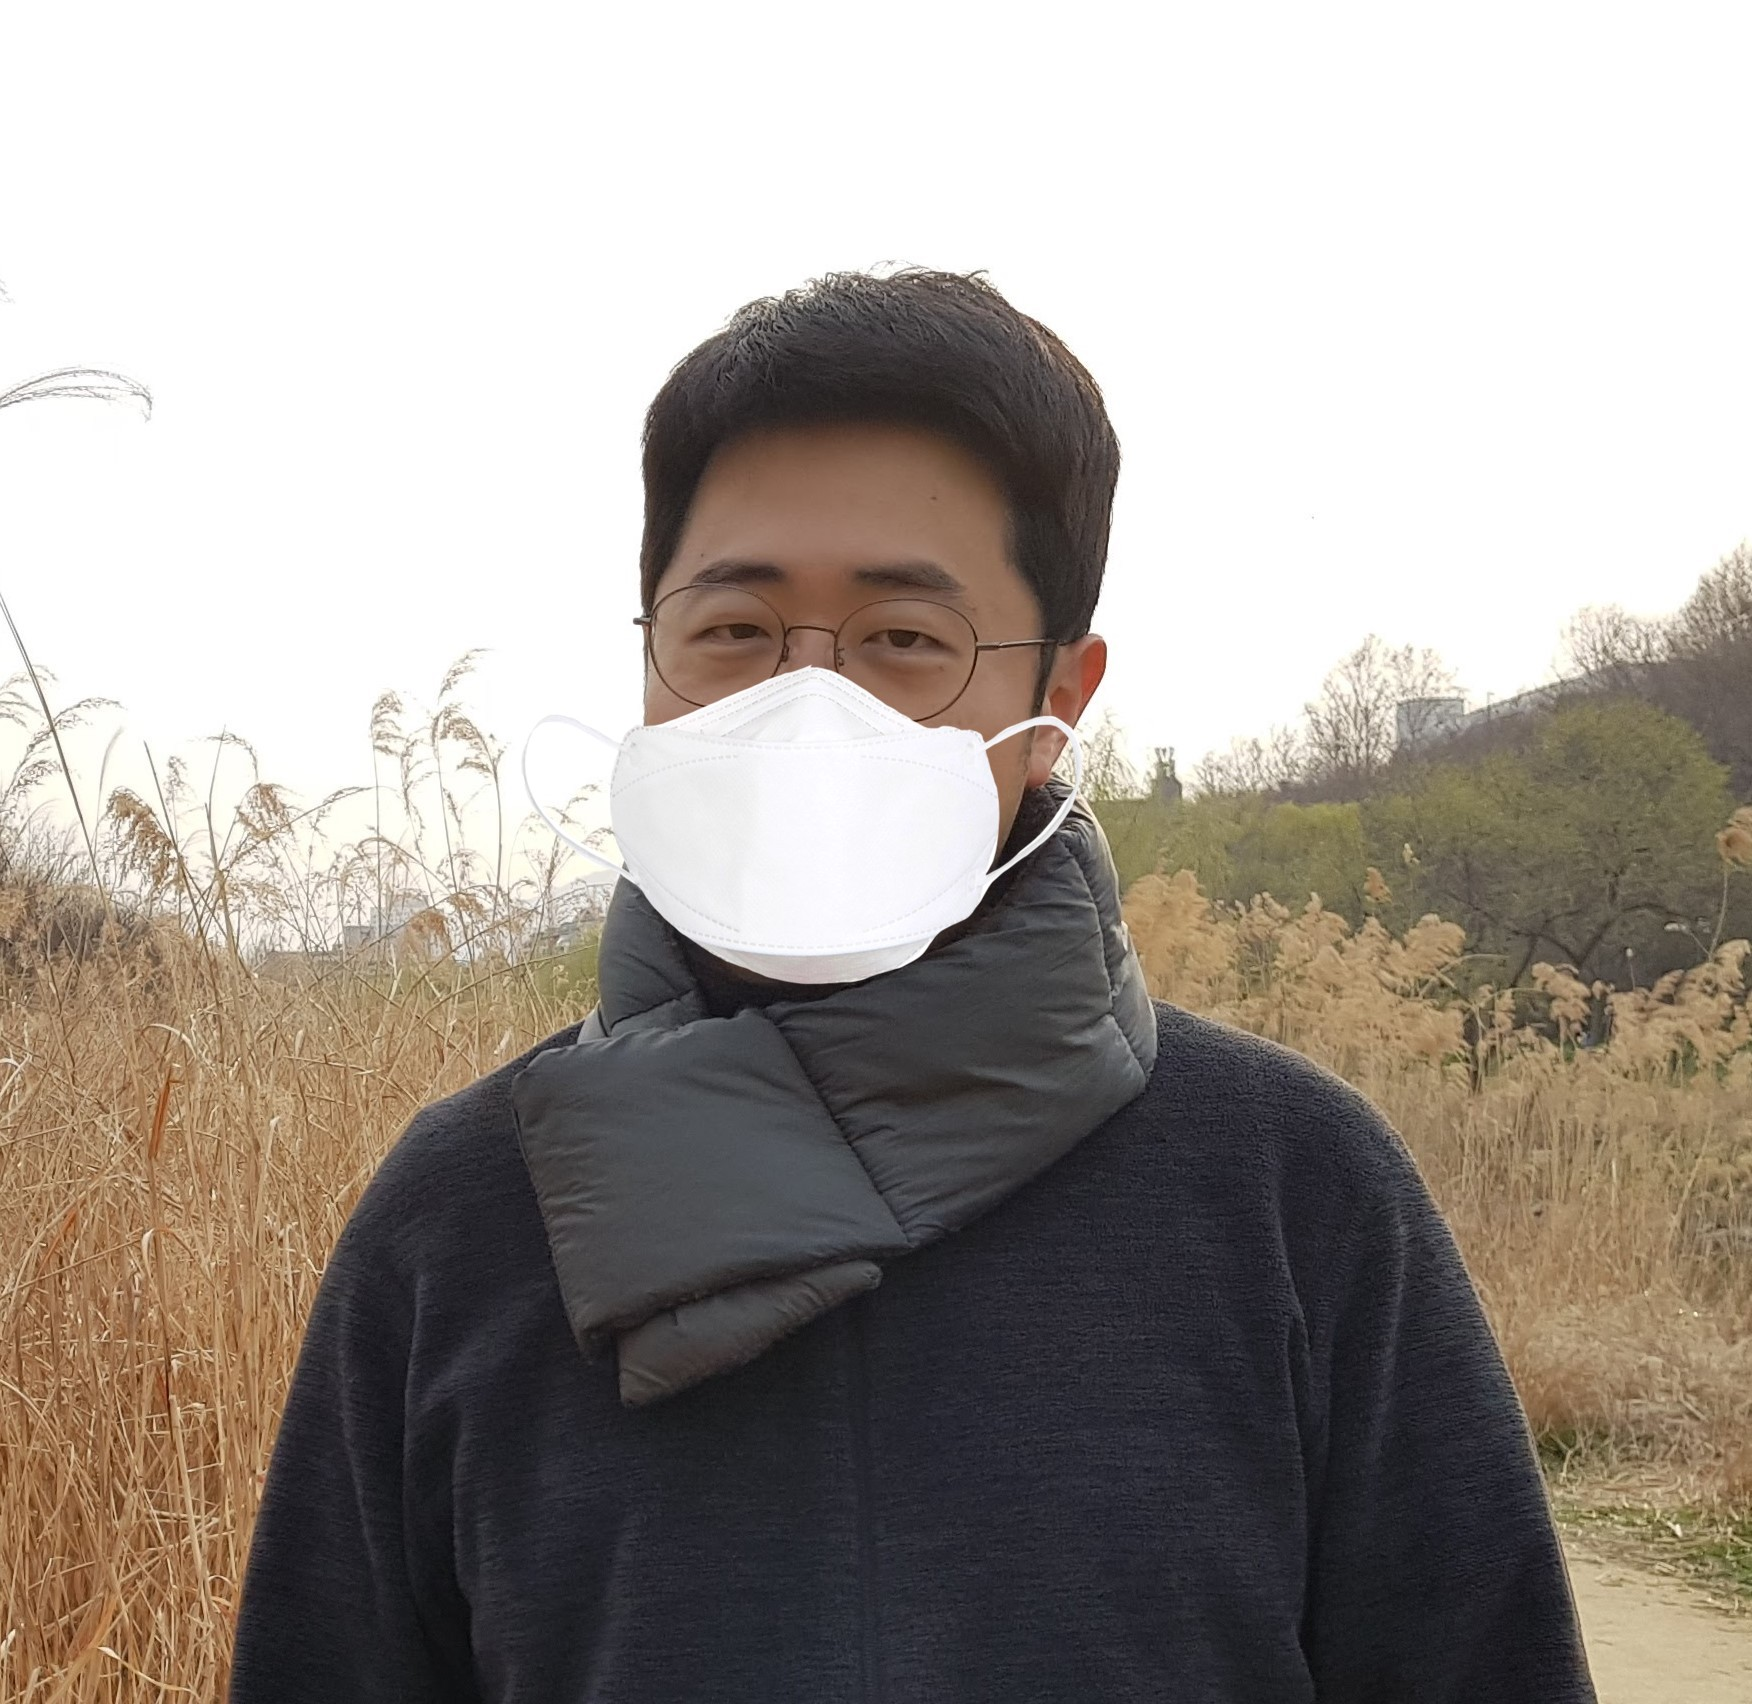mask: (644, 444, 1042, 942)
